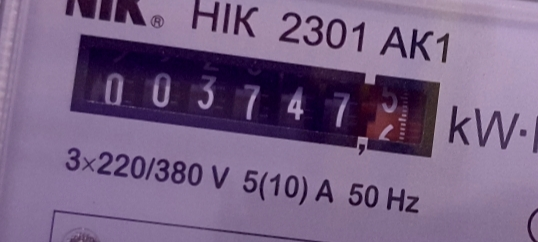0: (147, 68, 172, 108), (99, 68, 125, 106)
3: (193, 71, 216, 110)
4: (282, 81, 307, 123)
5: (377, 83, 399, 114)
6: (374, 119, 394, 142)
7: (325, 86, 352, 129), (236, 80, 260, 121)
screen: (57, 21, 455, 173)
